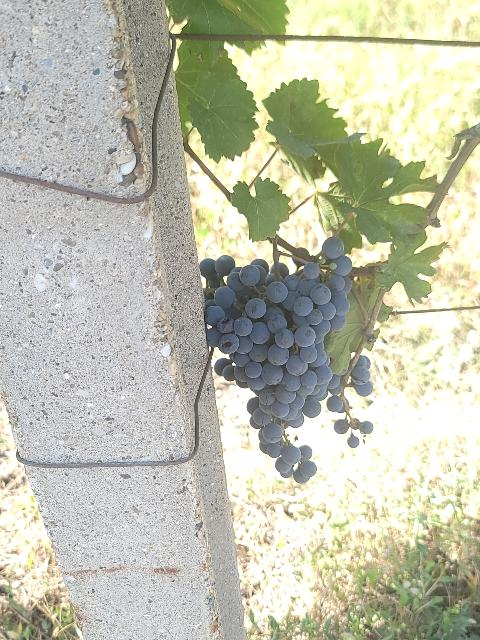grapes: (199, 235, 352, 484)
